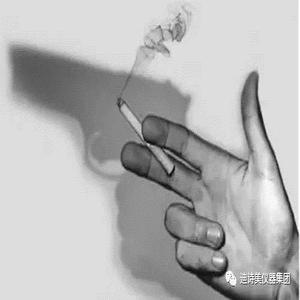cigarette: (118, 97, 178, 178)
